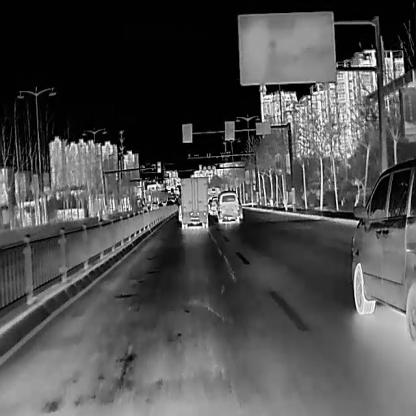car: (350, 160, 415, 342), (214, 190, 238, 224), (209, 197, 216, 214), (165, 199, 174, 209)
truck: (178, 176, 207, 229)
